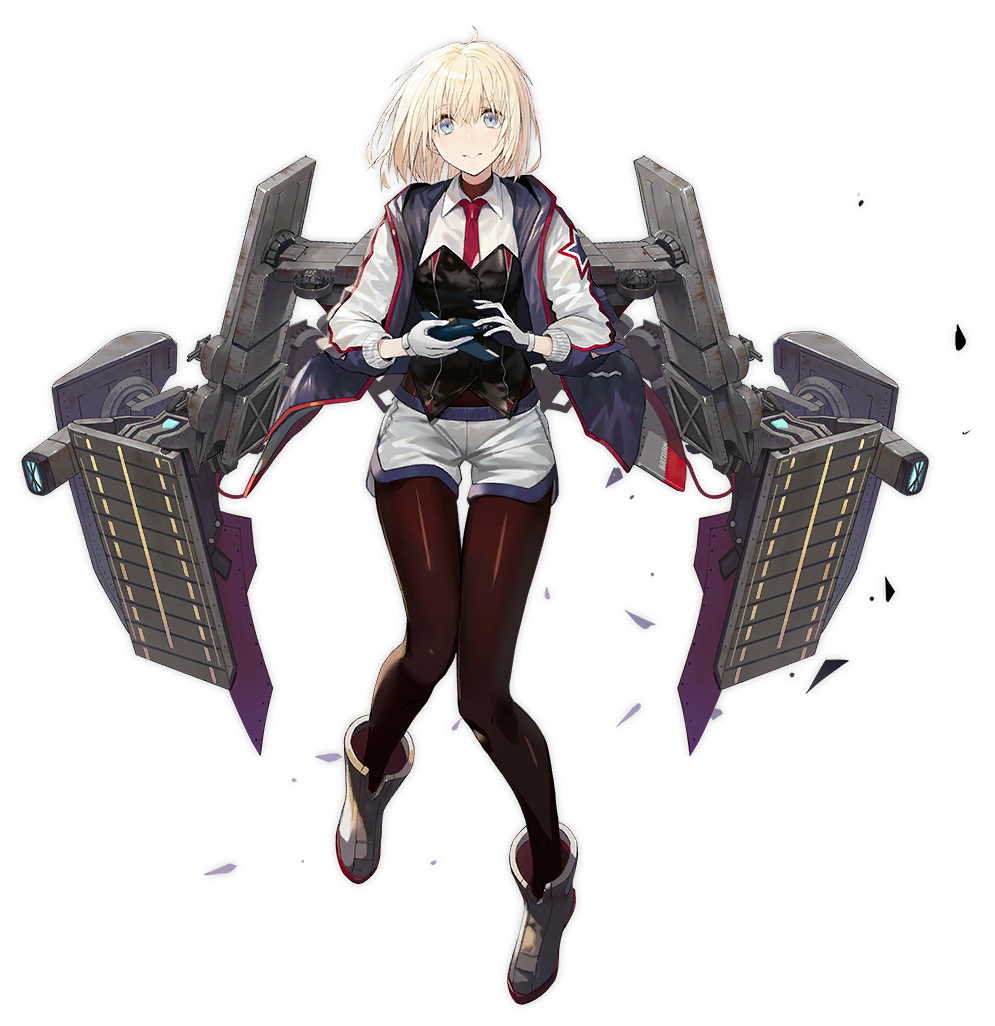person: (257, 36, 643, 736)
